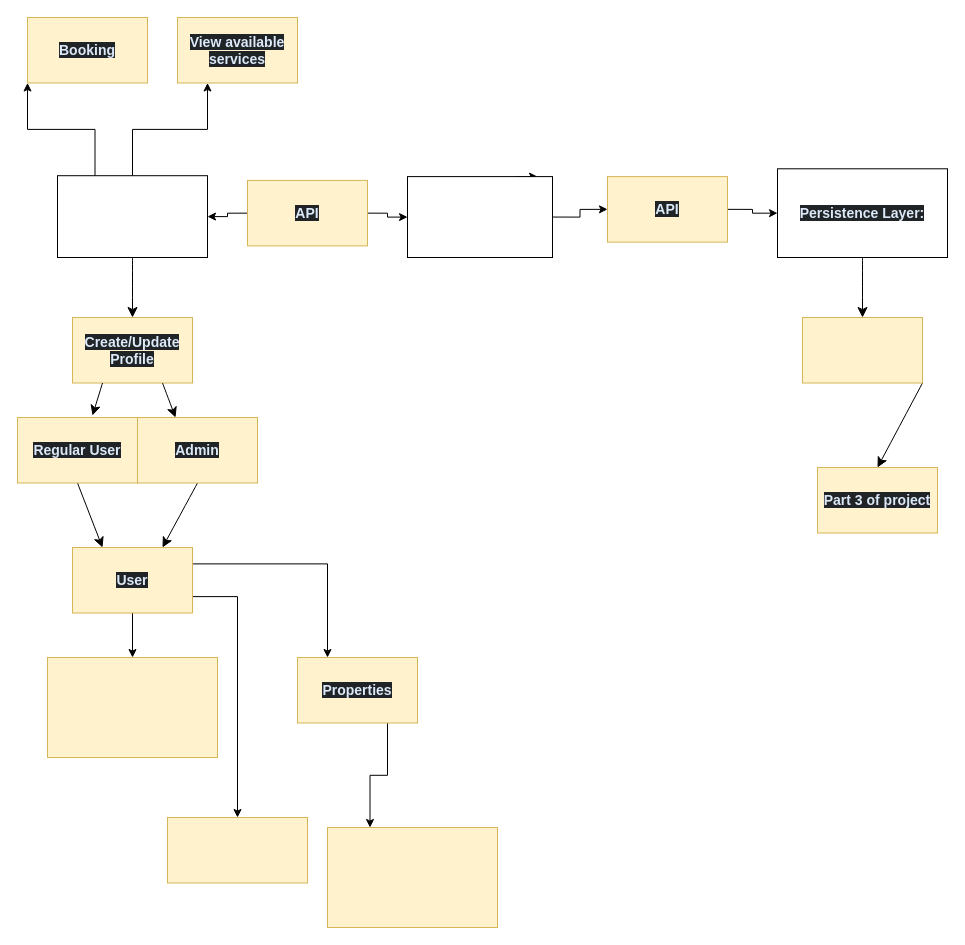
This 965x945 diagram has some shape labels left out. Each missing label, with the centre of its shape:
Business Logic Layer (Models):: point (479, 217)
Comment/Review: point (237, 849)
Database: point (862, 349)
First Name Last Name Email Password: point (132, 707)
Presentation Layer (Services, API):: point (132, 216)
Title Description Place Latitude Longitude: point (412, 877)
